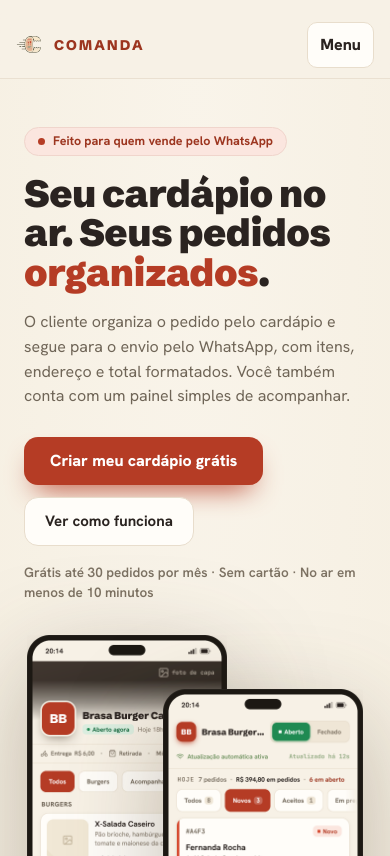
Test: LandingPage › opens and closes the mobile navigation from its keyboard-operable button
The image size is (390, 856).
Step 1. Click the button "Menu" → (341, 45), box 307,22 -> 374,68
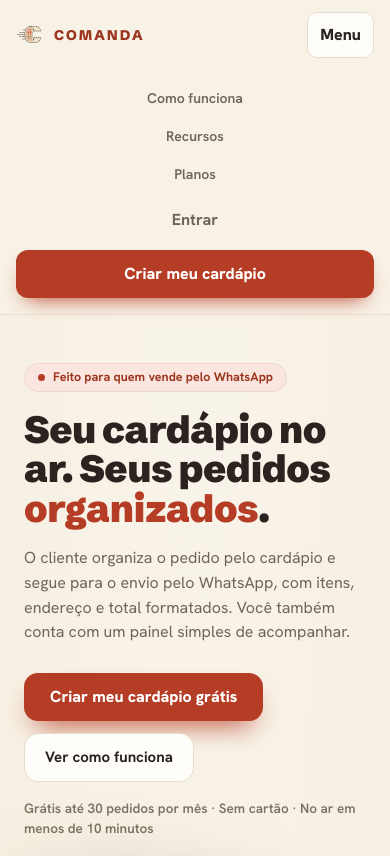
Now the button "Menu" is expanded, box 307,12 -> 374,58
